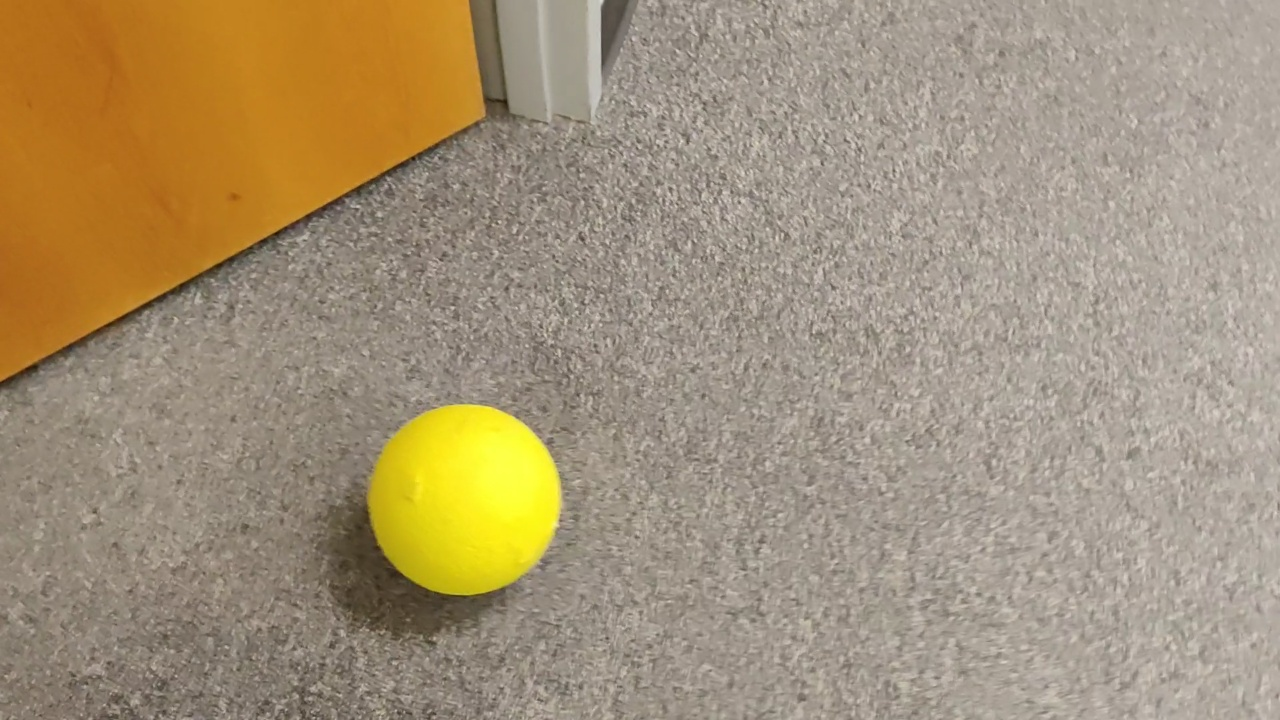Ball: (346, 400, 582, 590)
